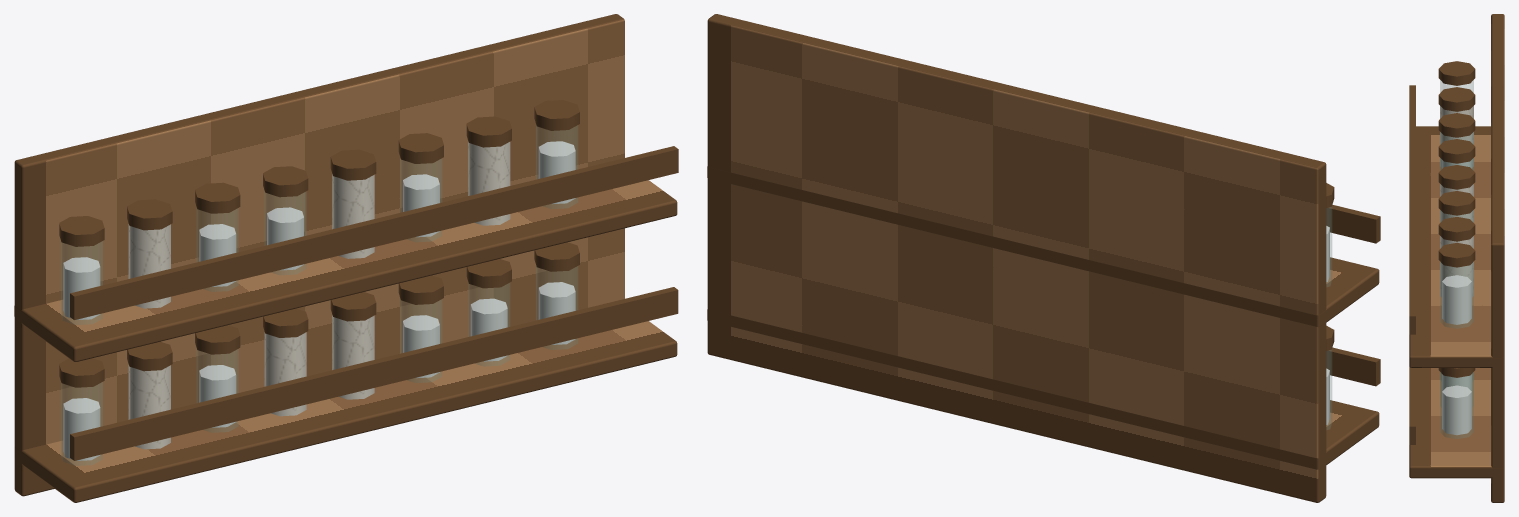
File: spiceRack.glb
3 renders of one model, left to right at view 1: azimuth 30°, elevation 25°; view 2: azimuth 150°, elevation 25°; view 3: azimuth 270°, elevation 25°, orthographic. The views are drawn at different scales.
Visible parts, largest first — view 1: dyn_wood_variant, spiceRack, dyn_color_tint; view 2: dyn_wood_variant, spiceRack; view 3: dyn_wood_variant, spiceRack, dyn_color_tint.
Boxes of the visible parts, box(x1,y1,x2,y2) form: dyn_wood_variant: box(14, 14, 678, 502); spiceRack: box(61, 125, 577, 465); dyn_color_tint: box(63, 141, 575, 460); dyn_wood_variant: box(707, 14, 1380, 502); spiceRack: box(1326, 207, 1331, 429); dyn_wood_variant: box(1409, 14, 1504, 502); spiceRack: box(1440, 80, 1473, 438); dyn_color_tint: box(1442, 160, 1471, 435).
Bounding box in the file's own units: 0.8008 × 0.4201 × 0.1401.
4 materials, 3 textured.
